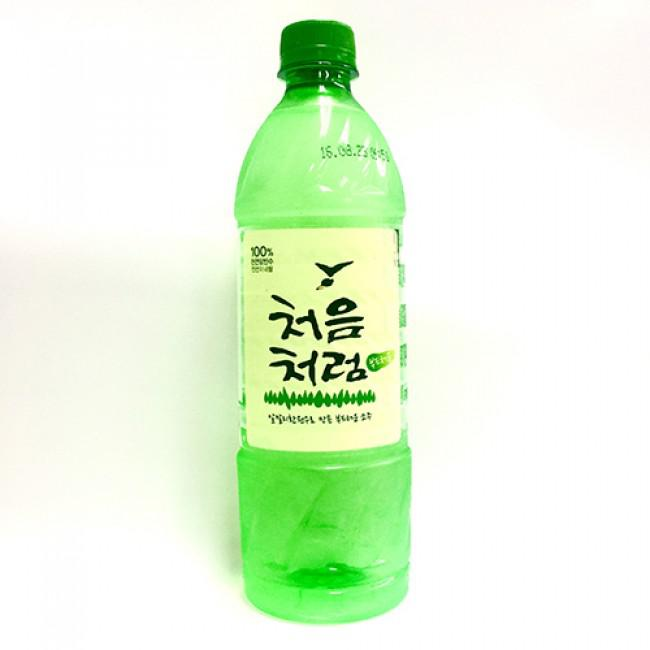soju: (229, 18, 420, 625)
